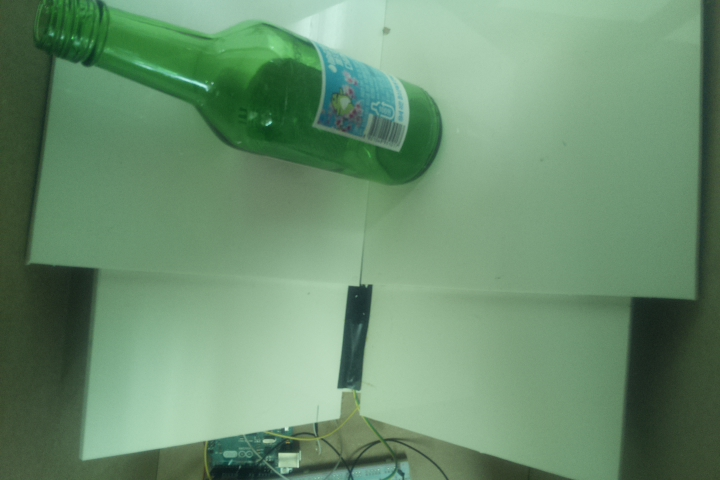soju: (34, 1, 444, 188)
